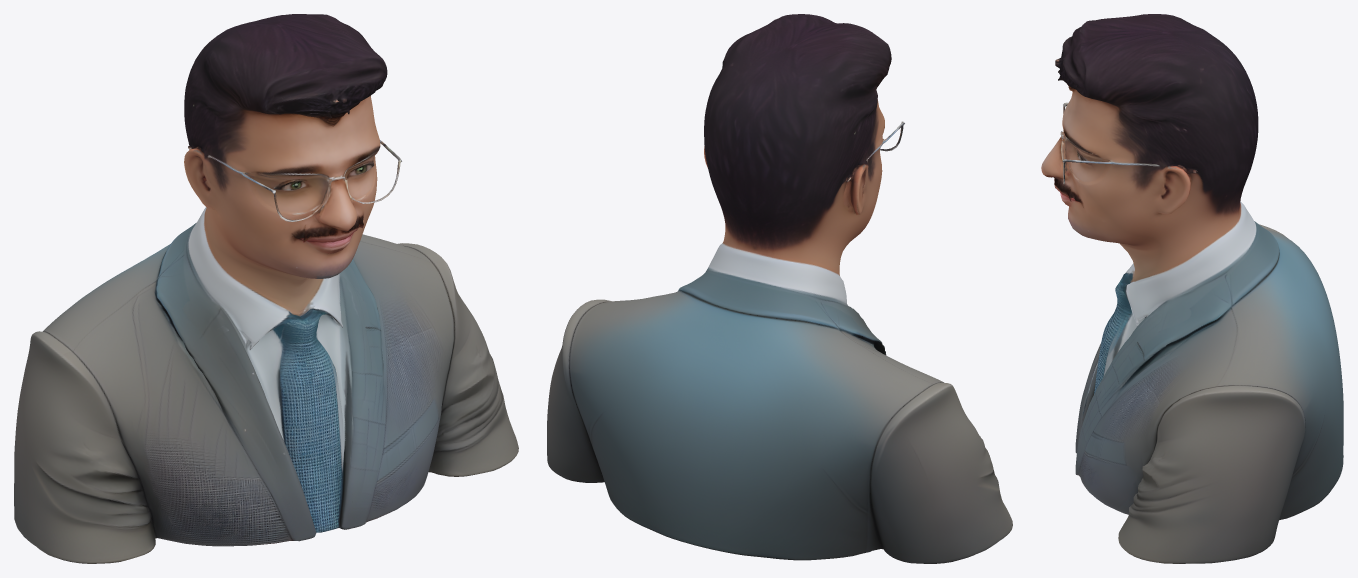
The model's file is Human_Avatar_Kishan_Nishad_model.glb.
3 views of the same model, side by side, from view 1: azimuth 30°, elevation 25°; view 2: azimuth 150°, elevation 25°; view 3: azimuth 270°, elevation 25° (orthographic). The views are drawn at different scales.
Visible parts, largest first — view 1: model; view 2: model; view 3: model.
Boxes of the visible parts, <box> form: model: <box>14,14,518,563</box>; model: <box>547,14,1012,563</box>; model: <box>1041,14,1343,563</box>.
Size of the model in its own units: 1.9 by 1.84 by 1.17.
1 material, 1 textured.
